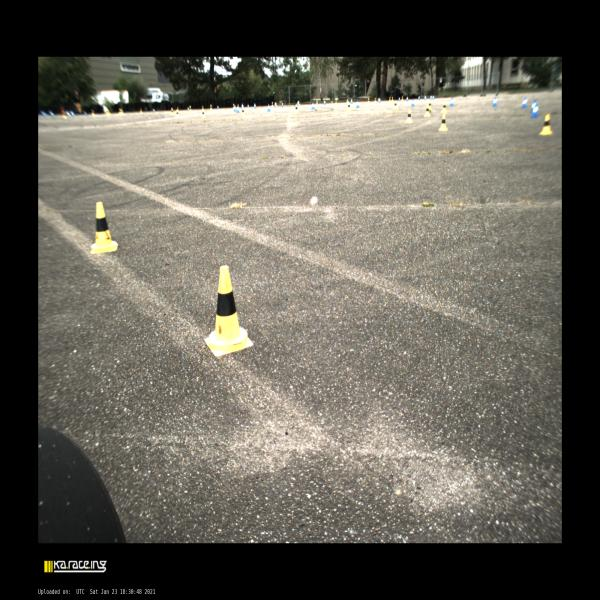blue_cone: (531, 106, 538, 118), (522, 97, 527, 108), (532, 101, 537, 111), (493, 97, 497, 107), (266, 104, 271, 111), (311, 102, 315, 110), (356, 100, 360, 108), (235, 106, 240, 112), (450, 98, 453, 106), (411, 99, 414, 106), (253, 103, 257, 108), (274, 102, 277, 108), (424, 95, 427, 100), (242, 103, 244, 110), (350, 98, 352, 104), (324, 99, 326, 105), (297, 100, 299, 106), (406, 96, 408, 101), (432, 95, 434, 100), (247, 104, 249, 108), (418, 96, 420, 100), (430, 96, 432, 100), (378, 98, 380, 102), (217, 106, 219, 110), (234, 105, 235, 111), (282, 102, 283, 107), (399, 98, 400, 102), (188, 107, 189, 111)
yellow_cone: (204, 266, 253, 357), (91, 202, 117, 254), (539, 114, 551, 135), (438, 112, 449, 131), (405, 108, 413, 123), (440, 100, 448, 112), (424, 103, 430, 117), (201, 108, 205, 118), (295, 104, 299, 113), (176, 110, 180, 118), (394, 101, 397, 109), (429, 102, 432, 110), (236, 103, 240, 109), (171, 108, 174, 115), (241, 106, 244, 113), (315, 100, 318, 106), (189, 105, 192, 111), (367, 97, 370, 102), (271, 102, 274, 107), (348, 103, 350, 110), (210, 104, 212, 111), (392, 96, 394, 102), (389, 96, 391, 102), (374, 97, 376, 103), (401, 96, 403, 101), (177, 107, 179, 112), (335, 99, 337, 103), (202, 106, 204, 110), (346, 99, 348, 102), (233, 103, 234, 109)
